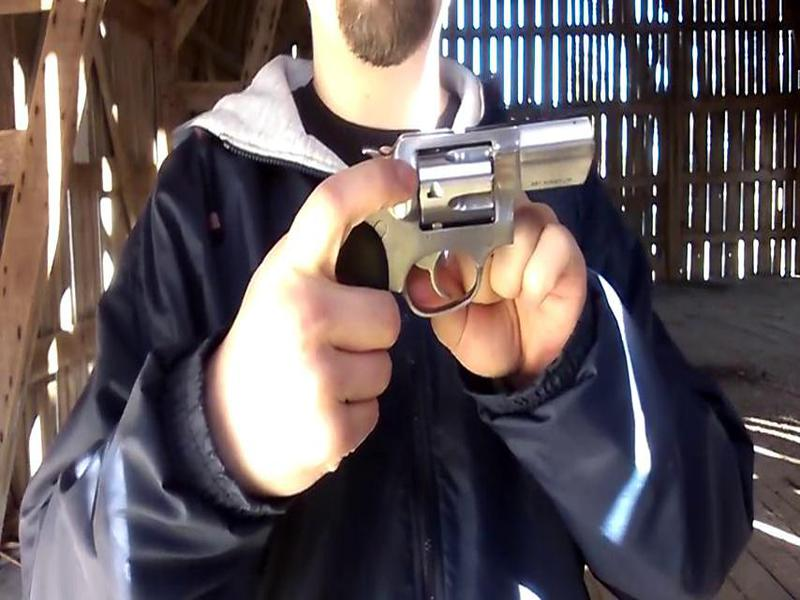Revolver: (283, 82, 607, 358)
